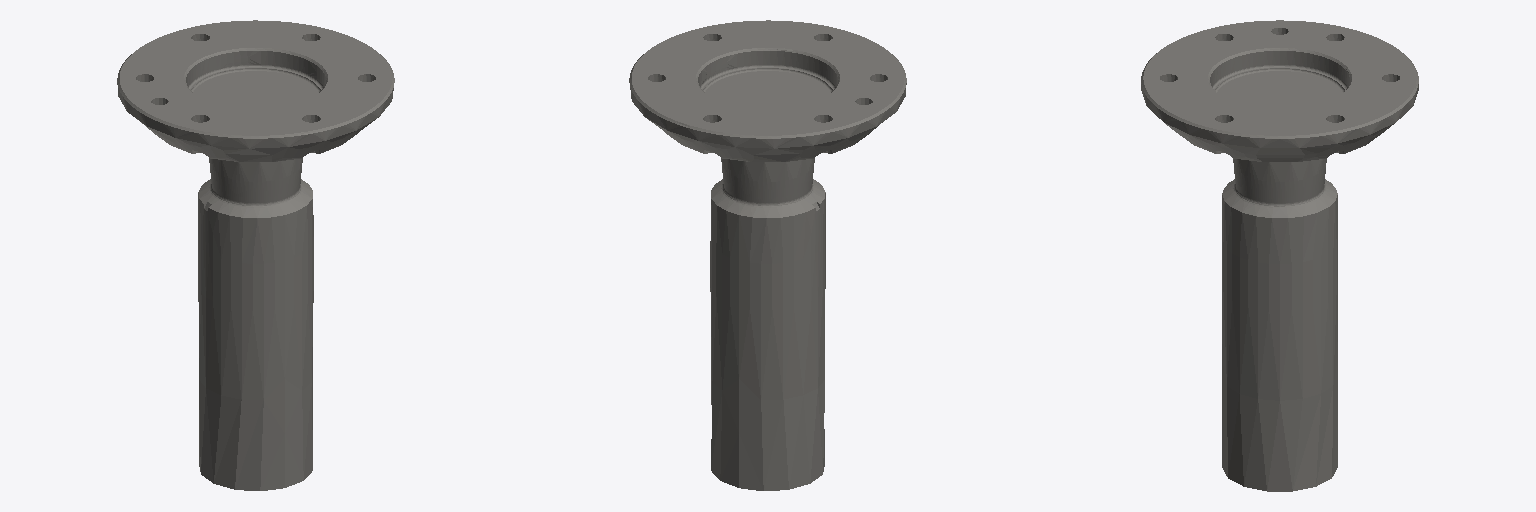
robot.urdf — staubli_tx60l:
<?xml version="1.0" ?>
<!-- =================================================================================== -->
<!-- |    This document was autogenerated by xacro from tx60l.xacro                    | -->
<!-- |    EDITING THIS FILE BY HAND IS NOT RECOMMENDED                                 | -->
<!-- =================================================================================== -->
<robot name="staubli_tx60l" xmlns:xacro="http://wiki.ros.org/xacro">
  <!-- colours based on RAL values supplied by Staubli -->
  <!-- all RAL colours converted using http://www.visual-graphics.de/en/customer-care/ral-colours -->
  <!-- default colours for robots -->
  <!-- links: main serial chain -->
  <link name="base_link">
    <visual>
      <origin rpy="0 0 0" xyz="0 0 0"/>
      <geometry>
        <mesh filename="package://staubli_tx60_support/meshes/tx60/visual/base_link.stl"/>
      </geometry>
      <material name="">
        <color rgba="1.0 0.607843137255 0.0 1.0"/>
      </material>
    </visual>
    <collision>
      <origin rpy="0 0 0" xyz="0 0 0"/>
      <geometry>
        <mesh filename="package://staubli_tx60_support/meshes/tx60/collision/base_link.stl"/>
      </geometry>
    </collision>
    <inertial>
      <mass value="4.65971957"/>
      <origin rpy="0.0 0.0 0.0" xyz="-0.00257355 -0.00039402 0.08786146"/>
      <inertia ixx="0.02319781" ixy="0.00023234" ixz="0.00162421" iyy="0.02621322" iyz="0.00008092" izz="0.02286303"/>
    </inertial>
  </link>
  <link name="link_1">
    <visual>
      <origin rpy="0 0 0" xyz="0 0 0"/>
      <geometry>
        <mesh filename="package://staubli_tx60_support/meshes/tx60/visual/link_1.stl"/>
      </geometry>
      <material name="">
        <color rgba="1.0 0.607843137255 0.0 1.0"/>
      </material>
    </visual>
    <collision>
      <origin rpy="0 0 0" xyz="0 0 0"/>
      <geometry>
        <mesh filename="package://staubli_tx60_support/meshes/tx60/collision/link_1.stl"/>
      </geometry>
    </collision>
    <inertial>
      <mass value="6.99103376"/>
      <origin rpy="0.0 0.0 0.0" xyz="0.00000000 0.02467680 -0.05265925"/>
      <inertia ixx="0.05672953" ixy="0.00000037" ixz="-0.00000049" iyy="0.04909238" iyz="0.01016069" izz="0.03457565"/>
    </inertial>
  </link>
  <link name="link_2">
    <visual>
      <origin rpy="0 0 0" xyz="0 0 0"/>
      <geometry>
        <mesh filename="package://staubli_tx60_support/meshes/tx60l/visual/link_2.stl"/>
      </geometry>
      <material name="">
        <color rgba="1.0 0.607843137255 0.0 1.0"/>
      </material>
    </visual>
    <collision>
      <origin rpy="0 0 0" xyz="0 0 0"/>
      <geometry>
        <mesh filename="package://staubli_tx60_support/meshes/tx60l/collision/link_2.stl"/>
      </geometry>
    </collision>
    <inertial>
      <mass value="5.21353000"/>
      <origin rpy="0.0 0.0 0.0" xyz="-0.00000322 0.17137541 0.17514843"/>
      <inertia ixx="0.13669961" ixy="0.00000038" ixz="-0.00000068" iyy="0.14393633" iyz="-0.00049262" izz="0.01130291"/>
    </inertial>
  </link>
  <link name="link_3">
    <visual>
      <origin rpy="0 0 0" xyz="0 0 0"/>
      <geometry>
        <mesh filename="package://staubli_tx60_support/meshes/tx60/visual/link_3.stl"/>
      </geometry>
      <material name="">
        <color rgba="1.0 0.607843137255 0.0 1.0"/>
      </material>
    </visual>
    <collision>
      <origin rpy="0 0 0" xyz="0 0 0"/>
      <geometry>
        <mesh filename="package://staubli_tx60_support/meshes/tx60/collision/link_3.stl"/>
      </geometry>
    </collision>
    <inertial>
      <mass value="4.52768000"/>
      <origin rpy="0.0 0.0 0.0" xyz="0.00424668 0.02553862 -0.00735408"/>
      <inertia ixx="0.02469218" ixy="0.00032528" ixz="0.00063194" iyy="0.02222651" iyz="-0.00155762" izz="0.01657366"/>
    </inertial>
  </link>
  <link name="link_4">
    <visual>
      <origin rpy="0 0 0" xyz="0 0 0"/>
      <geometry>
        <mesh filename="package://staubli_tx60_support/meshes/tx60l/visual/link_4.stl"/>
      </geometry>
      <material name="">
        <color rgba="1.0 0.607843137255 0.0 1.0"/>
      </material>
    </visual>
    <collision>
      <origin rpy="0 0 0" xyz="0 0 0"/>
      <geometry>
        <mesh filename="package://staubli_tx60_support/meshes/tx60l/collision/link_4.stl"/>
      </geometry>
    </collision>
    <inertial>
      <mass value="3.48055000"/>
      <origin rpy="0.0 0.0 0.0" xyz="-0.00134244 -0.00000186 0.28816464"/>
      <inertia ixx="0.03950054" ixy="0.00000004" ixz="-0.00063419" iyy="0.03813828" iyz="-0.00000002" izz="0.00610289"/>
    </inertial>
  </link>
  <link name="link_5">
    <visual>
      <origin rpy="0 0 0" xyz="0 0 0"/>
      <geometry>
        <mesh filename="package://staubli_tx60_support/meshes/tx60/visual/link_5.stl"/>
      </geometry>
      <material name="">
        <color rgba="0.529411764706 0.521568627451 0.505882352941 1.0"/>
      </material>
    </visual>
    <collision>
      <origin rpy="0 0 0" xyz="0 0 0"/>
      <geometry>
        <mesh filename="package://staubli_tx60_support/meshes/tx60/collision/link_5.stl"/>
      </geometry>
    </collision>
    <inertial>
      <mass value="0.16254714"/>
      <origin rpy="0.0 0.0 0.0" xyz="-0.00000105 0.00000000 0.01268974"/>
      <inertia ixx="0.00012557" ixy="0.00000000" ixz="0.00000000" iyy="0.00013289" iyz="0.00000000" izz="0.00006342"/>
    </inertial>
  </link>
  <link name="link_6">
    <visual>
      <origin rpy="0 0 0" xyz="0 0 0"/>
      <geometry>
        <mesh filename="package://staubli_tx60_support/meshes/tx60/visual/link_6.stl"/>
      </geometry>
      <material name="">
        <color rgba="0.529411764706 0.521568627451 0.505882352941 1.0"/>
      </material>
    </visual>
    <collision>
      <origin rpy="0 0 0" xyz="0 0 0"/>
      <geometry>
        <mesh filename="package://staubli_tx60_support/meshes/tx60/collision/link_6.stl"/>
      </geometry>
    </collision>
    <inertial>
      <mass value="0.00820000"/>
      <origin rpy="0.0 0.0 0.0" xyz="-0.00022629 0.00000000 -0.00597808"/>
      <inertia ixx="0.00000096" ixy="0.00000000" ixz="0.00000000" iyy="0.00000093" iyz="0.00000000" izz="0.00000154"/>
    </inertial>
  </link>
  <!-- joints: main serial chain -->
  <joint name="joint_1" type="revolute">
    <origin rpy="0 0 0" xyz="0 0 0.375"/>
    <parent link="base_link"/>
    <child link="link_1"/>
    <axis xyz="0 0 1"/>
    <!-- from Staubli instruction manual:
      (1) effort limit = 126 Nm if floor mounted
      (2) effort limit = 40 Nm if wall mounted -->
    <limit effort="126.0" lower="-3.14159265359" upper="3.14159265359" velocity="7.59218224618"/>
    <dynamics damping="0.0" friction="0.0"/>
  </joint>
  <joint name="joint_2" type="revolute">
    <origin rpy="0 0 0" xyz="0 0 0"/>
    <parent link="link_1"/>
    <child link="link_2"/>
    <axis xyz="0 1 0"/>
    <limit effort="47.0" lower="-2.22529479629" upper="2.22529479629" velocity="6.71951762018"/>
    <dynamics damping="0.0" friction="0.0"/>
  </joint>
  <joint name="joint_3" type="revolute">
    <origin rpy="0 0 0" xyz="0 0.02 0.40"/>
    <parent link="link_2"/>
    <child link="link_3"/>
    <axis xyz="0 1 0"/>
    <limit effort="32.0" lower="-2.66162710929" upper="2.66162710929" velocity="8.72664625997"/>
    <dynamics damping="0.0" friction="0.0"/>
  </joint>
  <joint name="joint_4" type="revolute">
    <origin rpy="0 0 0" xyz="0 0 0"/>
    <parent link="link_3"/>
    <child link="link_4"/>
    <axis xyz="0 0 1"/>
    <limit effort="7.0" lower="-4.71238898038" upper="4.71238898038" velocity="17.3660260573"/>
    <dynamics damping="0.0" friction="0.0"/>
  </joint>
  <joint name="joint_5" type="revolute">
    <origin rpy="0 0 0" xyz="0 0 0.45"/>
    <parent link="link_4"/>
    <child link="link_5"/>
    <axis xyz="0 1 0"/>
    <limit effort="8.0" lower="-2.13802833369" upper="2.31256125889" velocity="18.5877565337"/>
    <dynamics damping="0.0" friction="0.0"/>
  </joint>
  <joint name="joint_6" type="revolute">
    <origin rpy="0 0 0" xyz="0 0 0.07"/>
    <parent link="link_5"/>
    <child link="link_6"/>
    <axis xyz="0 0 1"/>
    <limit effort="2.0" lower="-4.71238898038" upper="4.71238898038" velocity="25.2200076913"/>
    <dynamics damping="0.0" friction="0.0"/>
  </joint>
  <!-- ROS-Industrial 'base' frame: base_link to Staubli World Coordinates transform -->
  <link name="base"/>
  <joint name="base_link-base" type="fixed">
    <origin rpy="0 0 0" xyz="0 0 0.375"/>
    <parent link="base_link"/>
    <child link="base"/>
  </joint>
  <!-- ROS-Industrial 'flange' frame: attachment point for EEF models -->
  <link name="flange"/>
  <joint name="joint_6-flange" type="fixed">
    <origin rpy="0 -1.57079632679 0" xyz="0 0 0"/>
    <parent link="link_6"/>
    <child link="flange"/>
  </joint>
  <!-- ROS-Industrial 'tool0' frame: all-zeros tool frame -->
  <link name="tool0"/>
  <joint name="flange-tool0" type="fixed">
    <origin rpy="0 1.57079632679 0" xyz="0 0 0"/>
    <parent link="flange"/>
    <child link="tool0"/>
  </joint>
</robot>

--- Render facts (derived) ---
Views: 3 orthographic renders of the robot side by side, from view 1: azimuth 30°, elevation 25°; view 2: azimuth 150°, elevation 25°; view 3: azimuth 270°, elevation 25°.
Model staubli_tx60l with 10 links and 9 joints (6 revolute, 3 fixed), rooted at base_link, posed every joint at zero.
Links seen in each view (by area): view 1: link_6; view 2: link_6; view 3: link_6.
Boxes of the visible links, x1=… form: link_6: x1=117, y1=20, x2=394, y2=490; link_6: x1=629, y1=20, x2=906, y2=490; link_6: x1=1141, y1=20, x2=1418, y2=491.
Bounding box of the posed robot: 0.125 × 0.125 × 0.1935 m (x, y, z).
Meshes: 7 distinct files referenced, 1 mesh visuals loaded (1 binary STL); not drawn: 6 (reference not matched to a file when rendering).